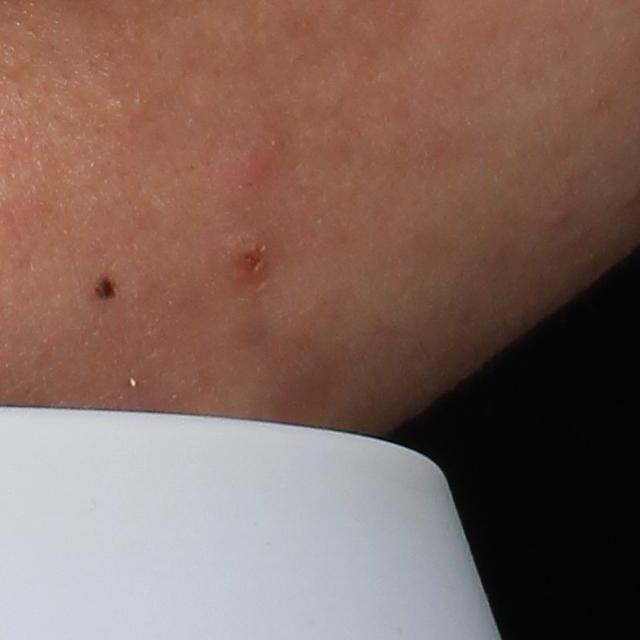nevus: (94, 277, 117, 298)
papule: (225, 138, 273, 192)
